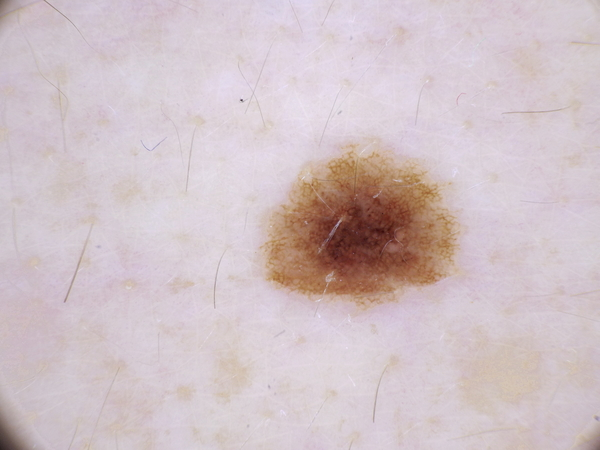Detected Lesion: (260, 144, 461, 310)
